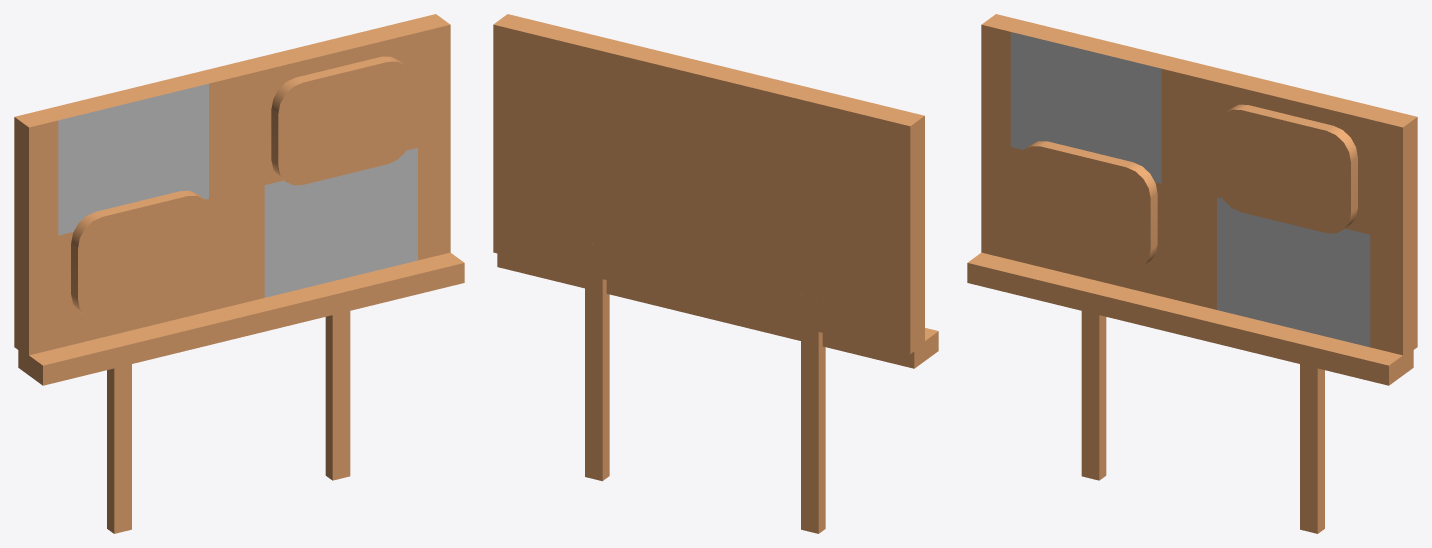
The model's file is score.fbx.
3 renders of one model, left to right at view 1: azimuth 30°, elevation 25°; view 2: azimuth 150°, elevation 25°; view 3: azimuth 330°, elevation 25°, orthographic.
Visible parts, largest first — view 1: score; view 2: score; view 3: score.
Part boxes in pixels (x1,y1,x2,y2): score: [14, 14, 464, 533]; score: [493, 14, 938, 533]; score: [967, 14, 1417, 533].
Bounding box in the file's own units: 14.25 × 14.04 × 1.68.
